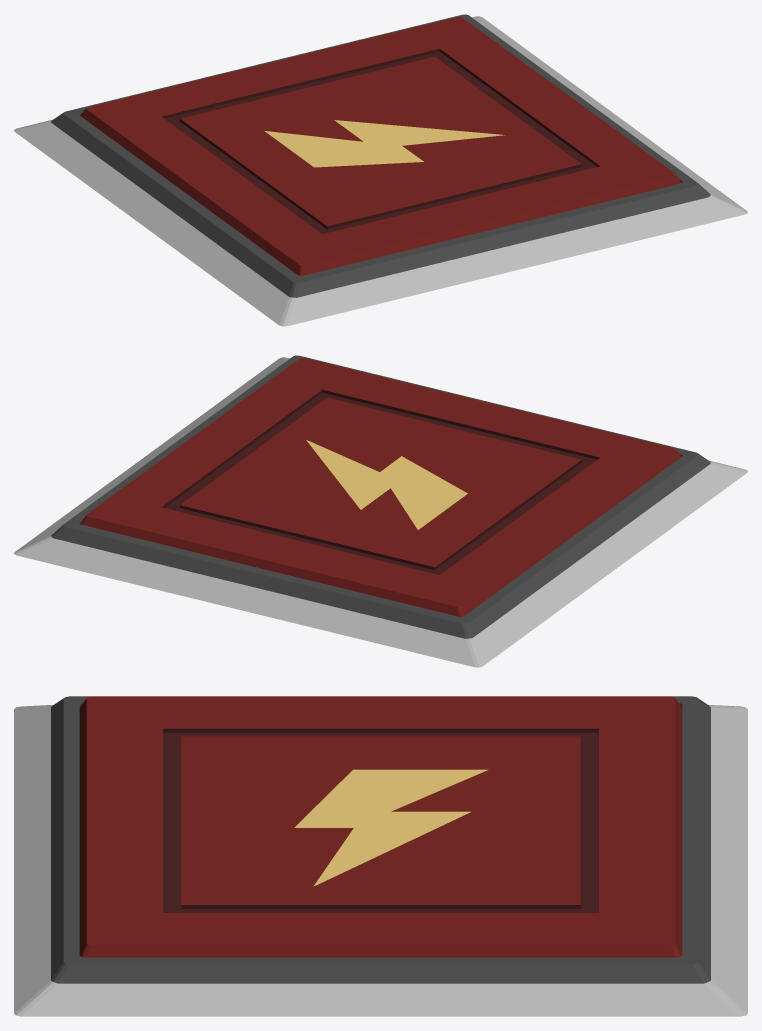
The model's file is SquarePressurePlateElec.fbx.
The picture shows the model from 3 angles, top to bottom: view 1: azimuth 30°, elevation 25°; view 2: azimuth 150°, elevation 25°; view 3: azimuth 270°, elevation 25°; orthographic projection. The views are drawn at different scales.
Parts seen in each view (by area): view 1: Square_Pressure_Plate_With_Electricity_Sign, Square_Pressure_Plate_With_Electricity_Sign_Base; view 2: Square_Pressure_Plate_With_Electricity_Sign, Square_Pressure_Plate_With_Electricity_Sign_Base; view 3: Square_Pressure_Plate_With_Electricity_Sign, Square_Pressure_Plate_With_Electricity_Sign_Base.
Part boxes in pixels (left/top/right/bottom): Square_Pressure_Plate_With_Electricity_Sign: left=80, top=17, right=681, bottom=275; Square_Pressure_Plate_With_Electricity_Sign_Base: left=14, top=14, right=747, bottom=326; Square_Pressure_Plate_With_Electricity_Sign: left=80, top=358, right=681, bottom=616; Square_Pressure_Plate_With_Electricity_Sign_Base: left=14, top=355, right=747, bottom=667; Square_Pressure_Plate_With_Electricity_Sign: left=79, top=696, right=682, bottom=957; Square_Pressure_Plate_With_Electricity_Sign_Base: left=14, top=696, right=747, bottom=1016.
Bounding box in the file's own units: 202 × 12.46 × 202.
